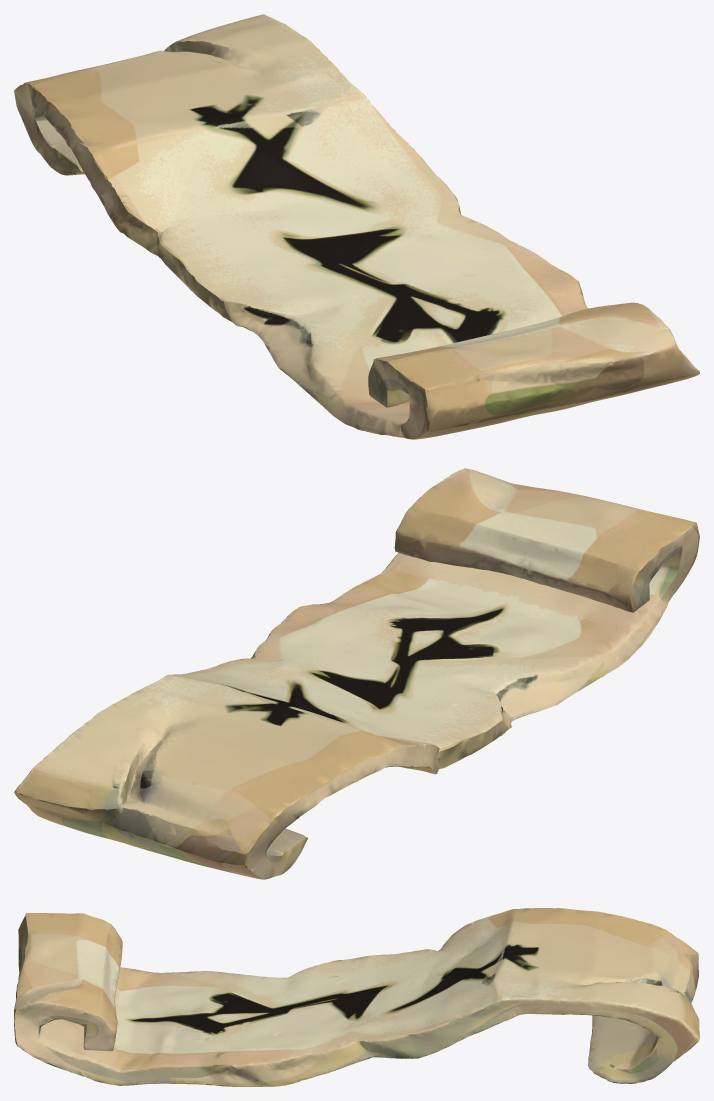
File: item_lightning_ward_talisman.glb
3 views of the same model, one above another, from view 1: azimuth 30°, elevation 25°; view 2: azimuth 150°, elevation 25°; view 3: azimuth 270°, elevation 25° (orthographic). The views are drawn at different scales.
Parts seen in each view (by area): view 1: item_lightning_ward_talisman; view 2: item_lightning_ward_talisman; view 3: item_lightning_ward_talisman.
Boxes of the visible parts, bbox=[...] form: item_lightning_ward_talisman: bbox=[14, 14, 699, 439]; item_lightning_ward_talisman: bbox=[14, 468, 699, 879]; item_lightning_ward_talisman: bbox=[14, 908, 699, 1086].
Bounding box in the file's own units: 0.0858 × 0.0286 × 0.22.
Materials: 1 (1 with a texture image).
